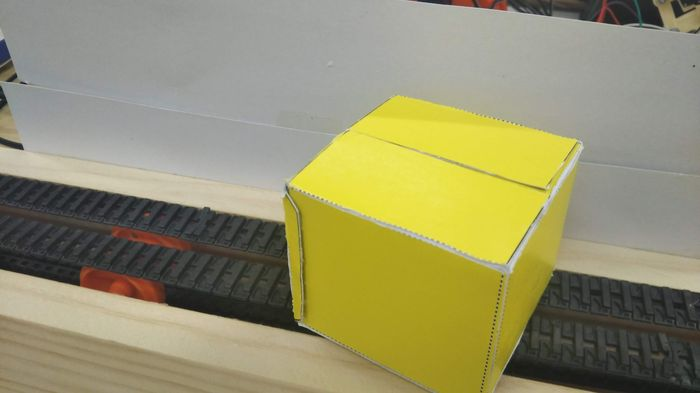box4: (278, 90, 585, 393)
